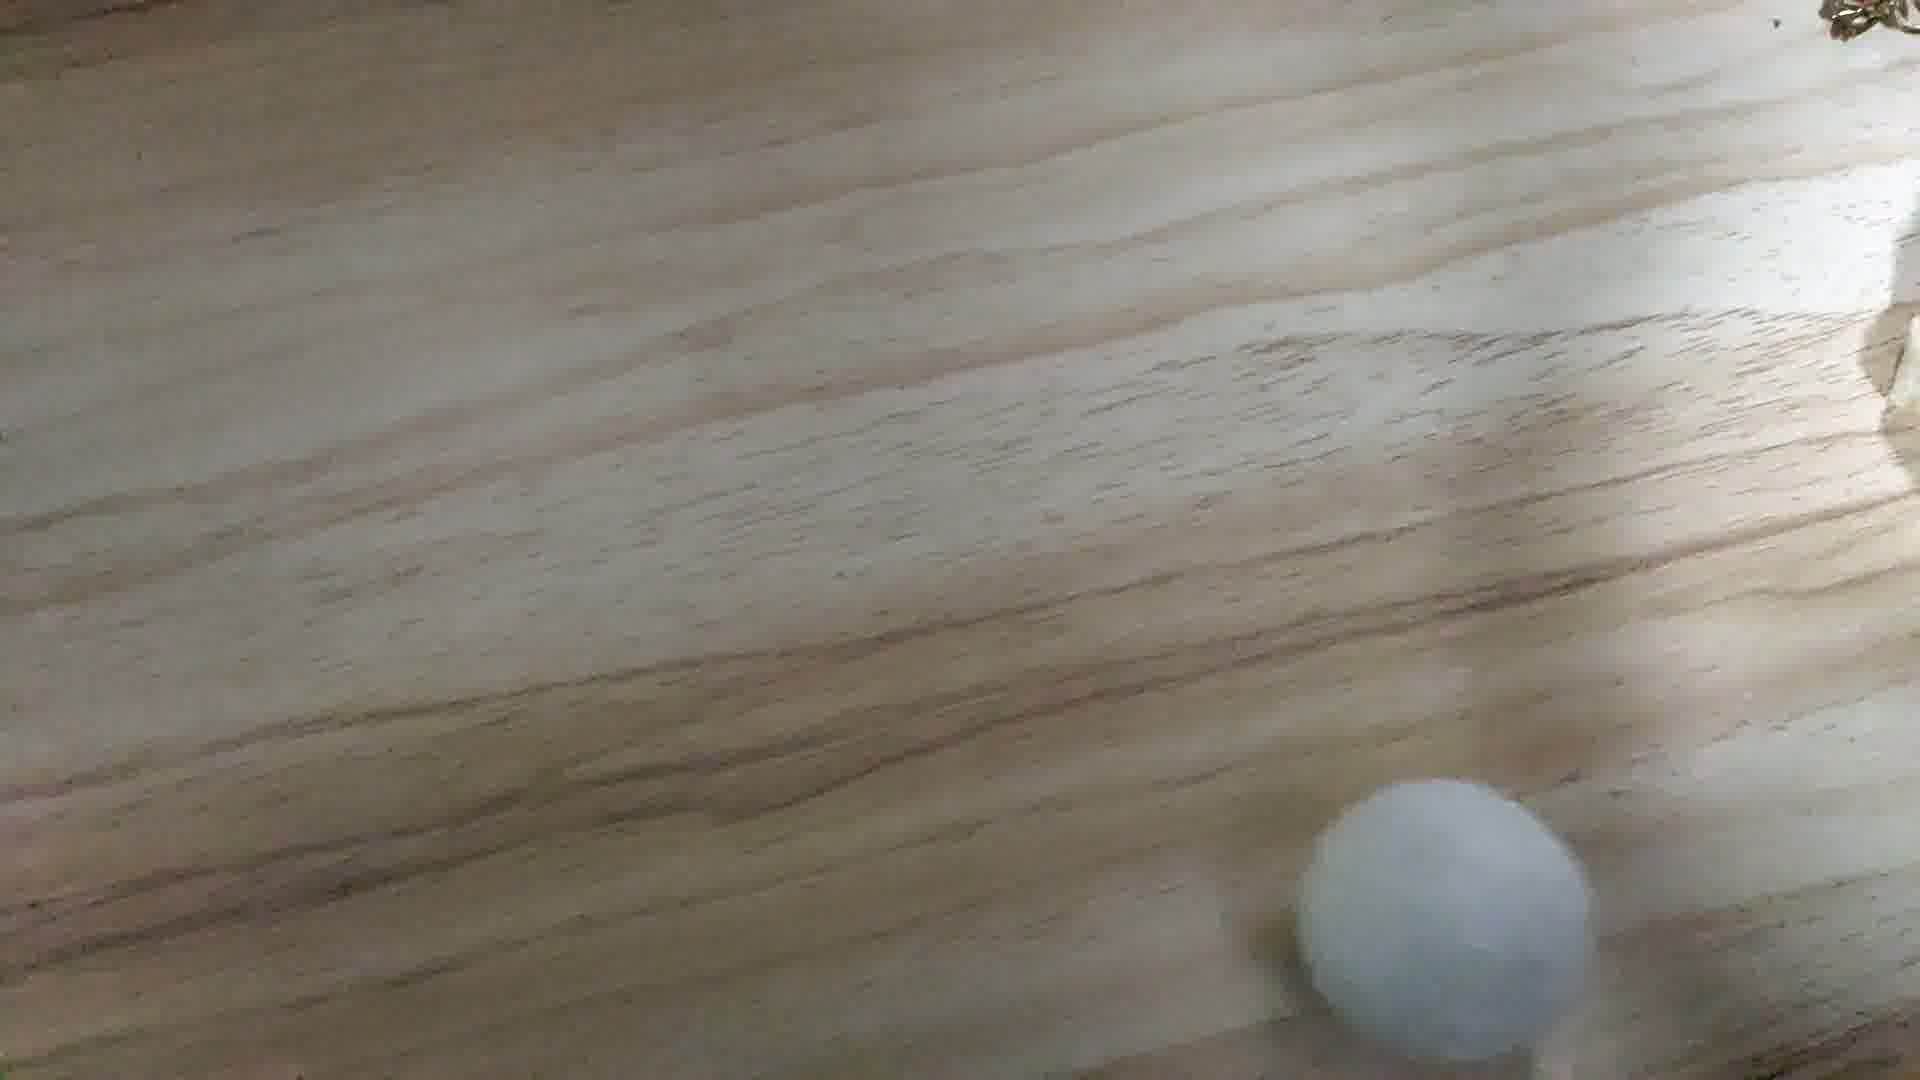Ball: (1299, 779, 1588, 1073)
